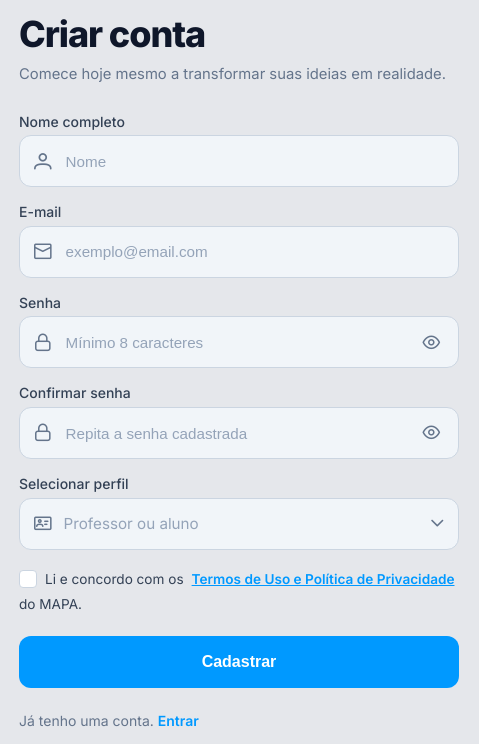
RegisterFormComponent › should toggle profile dropdown and select a profile option
The width and height of the screenshot is (479, 744).
Click the button "Professor ou aluno".
click(131, 524)  # box [19,498,459,550]
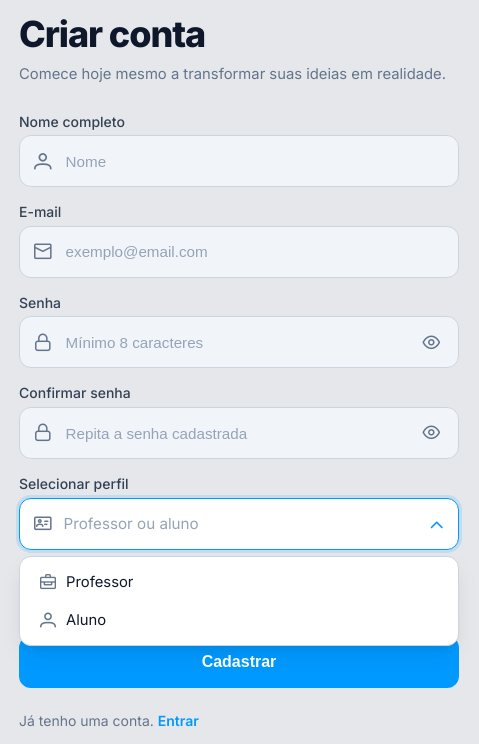
Expected: the list with class "custom-dropdown-menu" is shown, [19,556,459,646]
Expected: the option with class "custom-dropdown-option" showing "Professor" is shown
Click the option with class "custom-dropdown-option" showing "Professor".
click(87, 582)  # box [40,573,133,591]
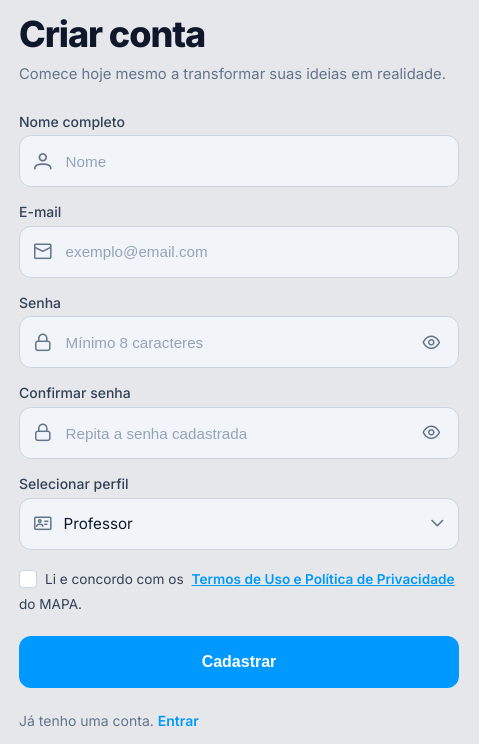
Expected: the text "Professor" is shown, [64,514,133,533]
